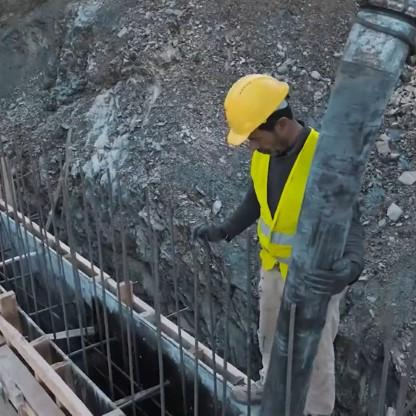helmet: (216, 72, 307, 166)
